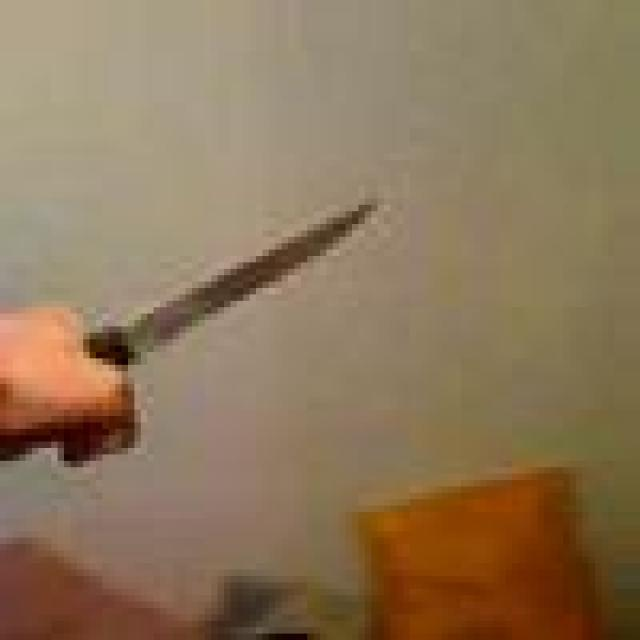faca: (23, 185, 394, 504)
